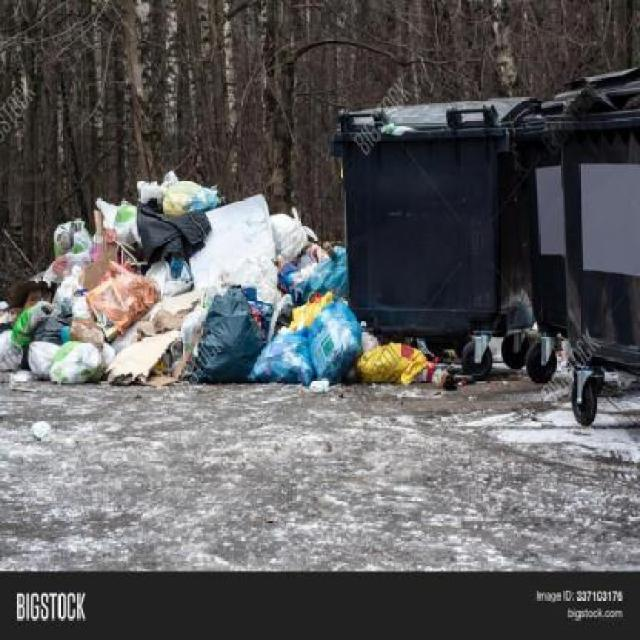garbage: (6, 150, 468, 403), (379, 114, 416, 138), (23, 416, 54, 440)
